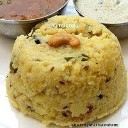venpongal: (13, 20, 123, 118)
